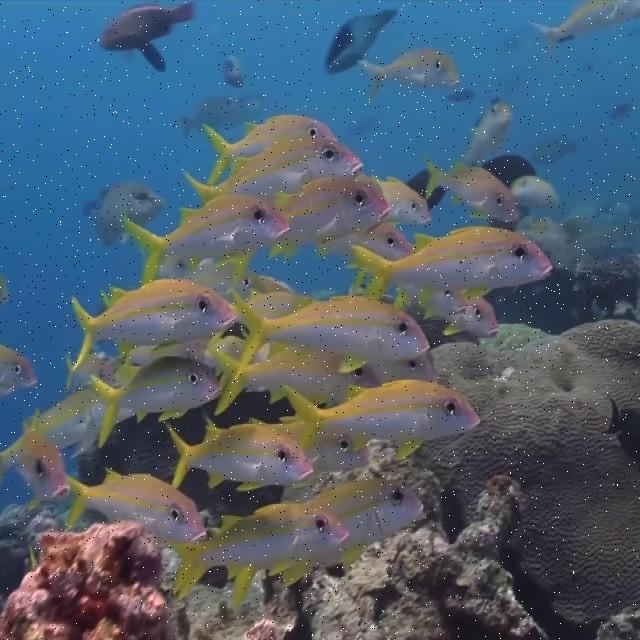fish: (169, 504, 351, 612), (234, 288, 429, 377), (68, 278, 240, 373), (284, 377, 482, 455), (122, 194, 290, 282), (354, 226, 552, 300), (180, 133, 362, 204), (64, 462, 206, 545), (92, 355, 220, 446), (167, 423, 313, 493), (308, 476, 423, 563), (203, 112, 338, 186), (276, 175, 393, 247), (102, 0, 195, 73), (426, 156, 518, 224), (81, 180, 164, 250), (11, 410, 70, 501), (356, 46, 458, 98), (324, 9, 399, 72), (423, 289, 498, 338), (465, 98, 512, 165), (385, 177, 431, 228), (0, 345, 37, 398), (510, 173, 559, 203)
